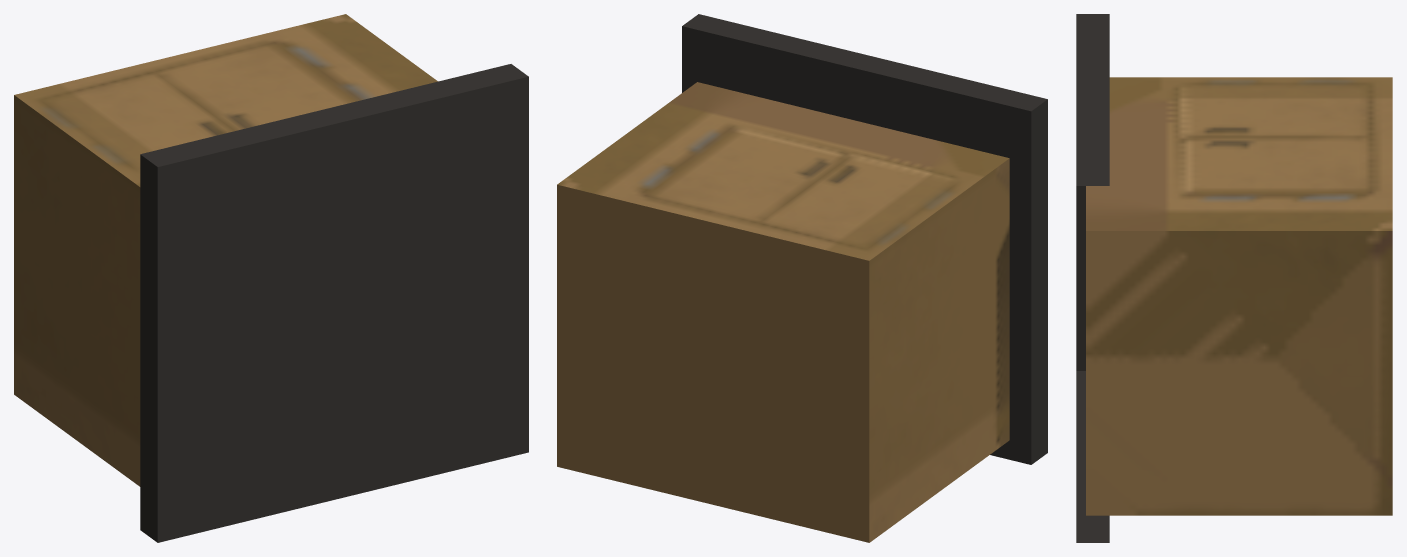
File: section-9.obj
3 renders of one model, left to right at view 1: azimuth 30°, elevation 25°; view 2: azimuth 150°, elevation 25°; view 3: azimuth 270°, elevation 25°, orthographic. The views are drawn at different scales.
Size of the model in its own units: 1.01 by 0.9759 by 0.7845.
1 material, 1 textured.
